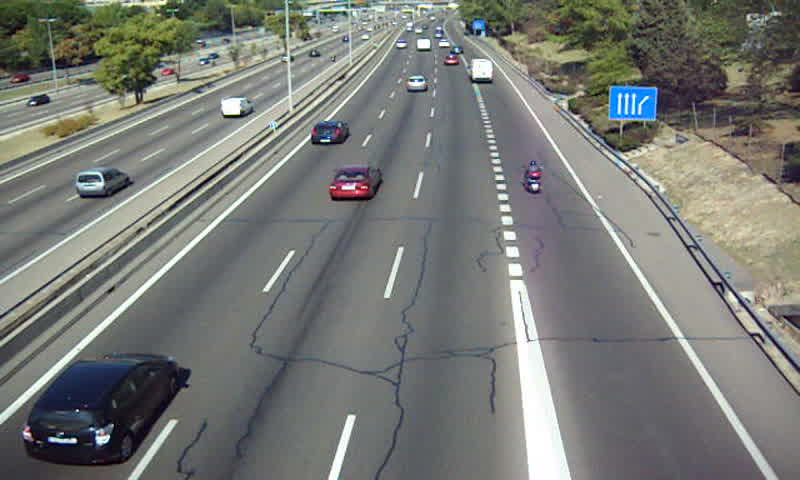car: (22, 356, 179, 464), (328, 165, 381, 201), (309, 120, 350, 146), (404, 75, 426, 92), (440, 54, 460, 68), (394, 39, 407, 47)
motorcycle: (521, 159, 545, 195)
van: (469, 58, 495, 84), (416, 38, 429, 52)
